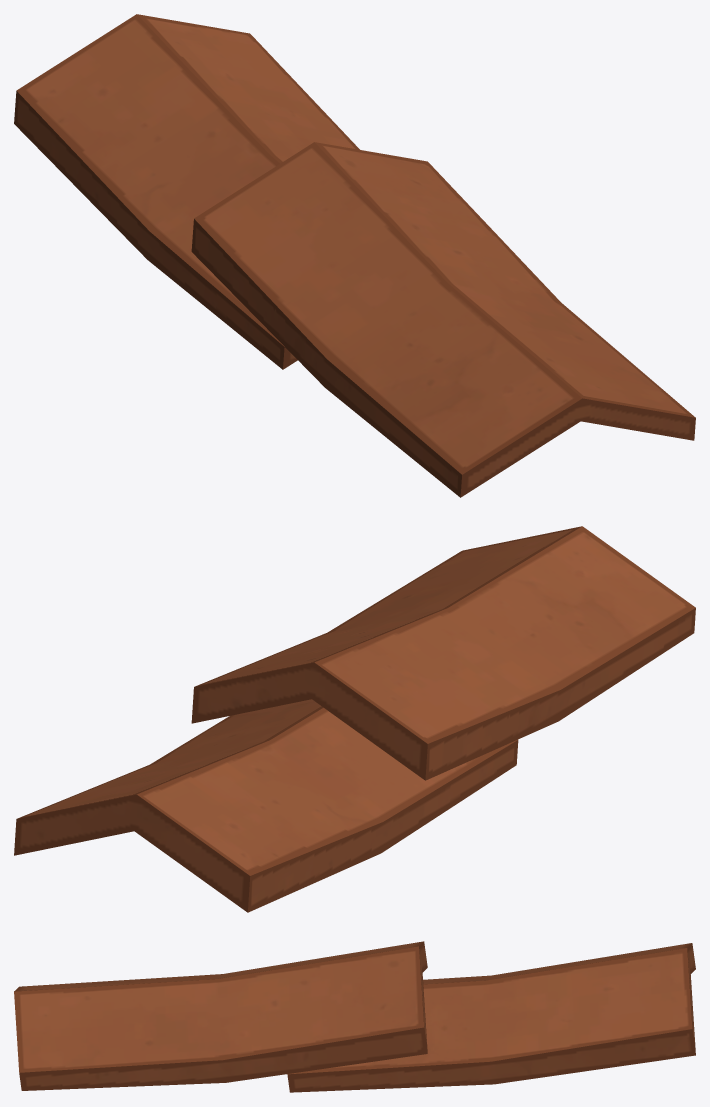
The model's file is SM_building_part_02.glb.
The picture shows the model from 3 angles, top to bottom: view 1: azimuth 30°, elevation 25°; view 2: azimuth 150°, elevation 25°; view 3: azimuth 270°, elevation 25°; orthographic projection. The views are drawn at different scales.
Visible parts, largest first — view 1: SM_building_part_02; view 2: SM_building_part_02; view 3: SM_building_part_02.
Boxes of the visible parts, x1,y1,x2,y2 form: SM_building_part_02: (14,14,695,497); SM_building_part_02: (14,526,695,912); SM_building_part_02: (14,941,695,1092).
Bounding box in the file's own units: 0.7447 × 0.4162 × 2.49.
Materials: 1 (1 with a texture image).
